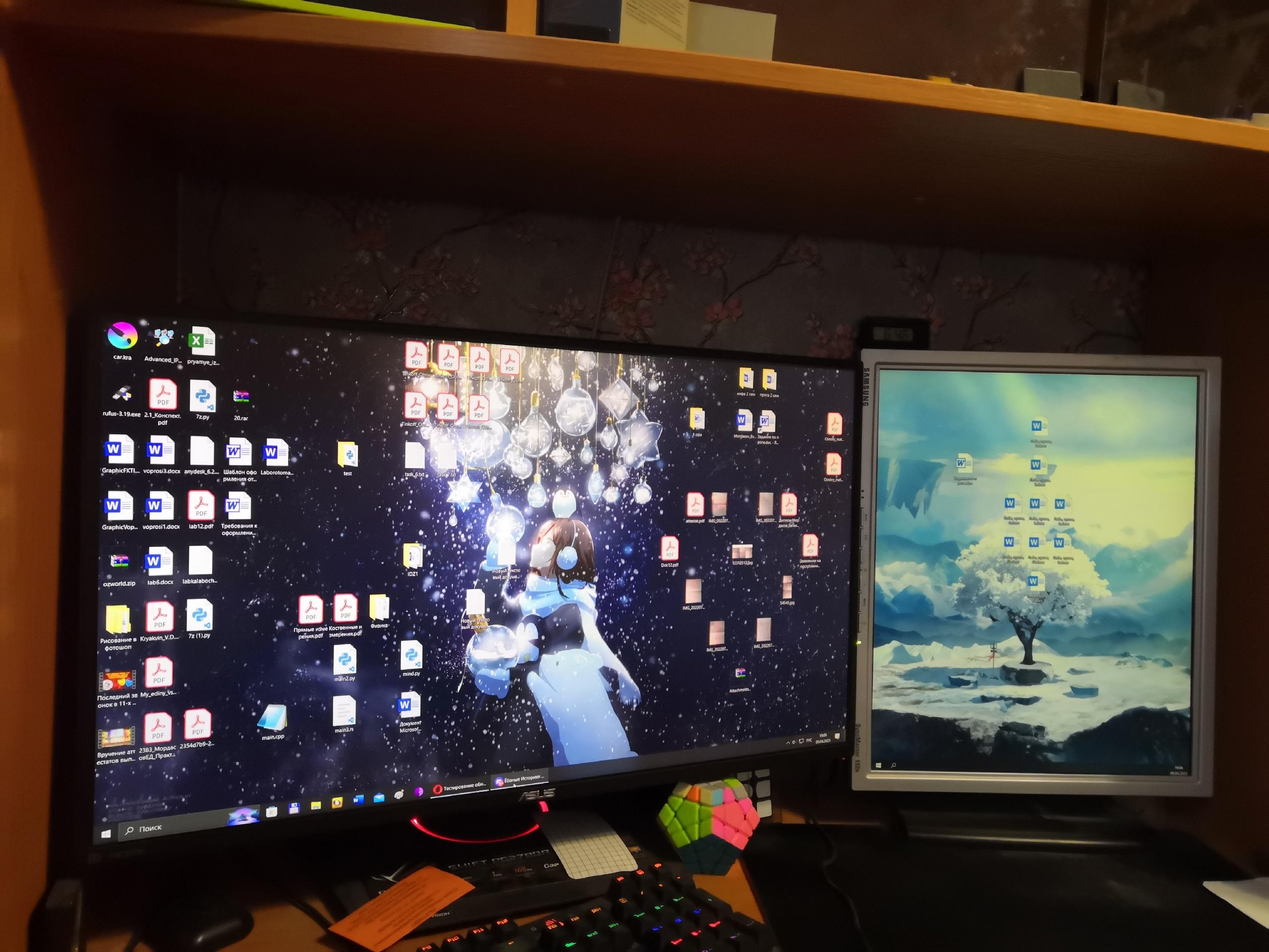monitor: (43, 273, 867, 810), (844, 337, 1241, 848)
